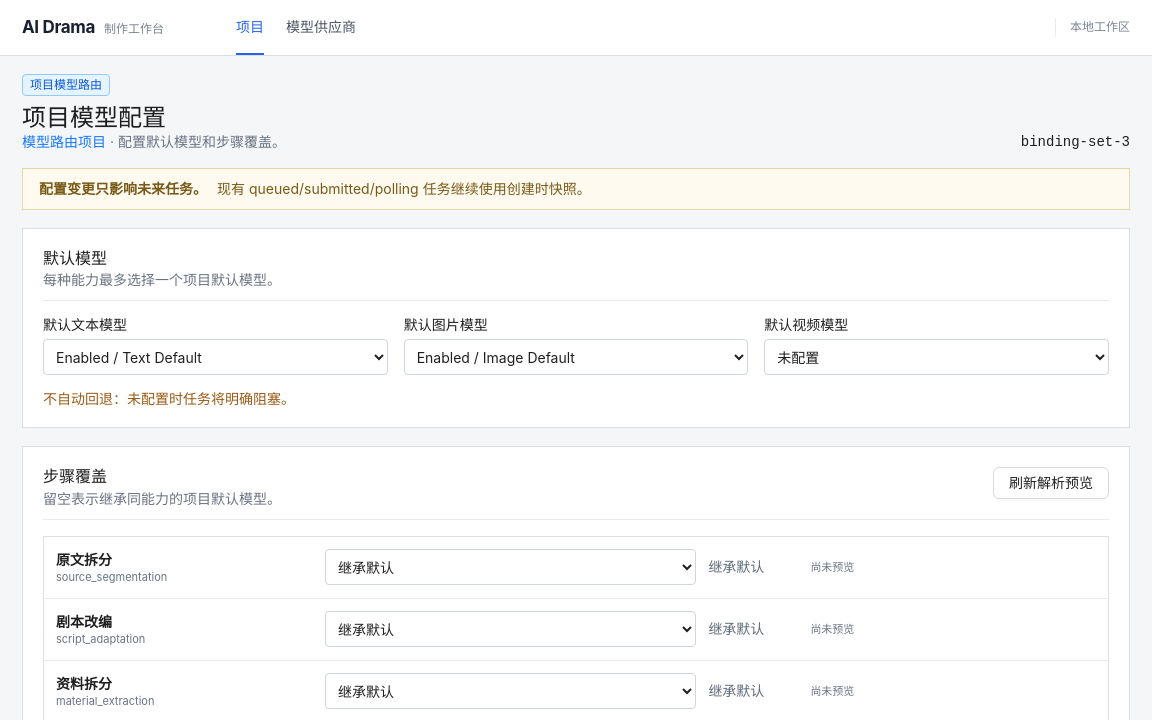
project model bindings › renders backend resolution preview and stable missing-binding errors
Expected: the heading "项目模型配置" is shown, [22, 103, 166, 132]
Step 1. Click the button "刷新解析预览" → (1051, 484), box [993, 468, 1109, 500]
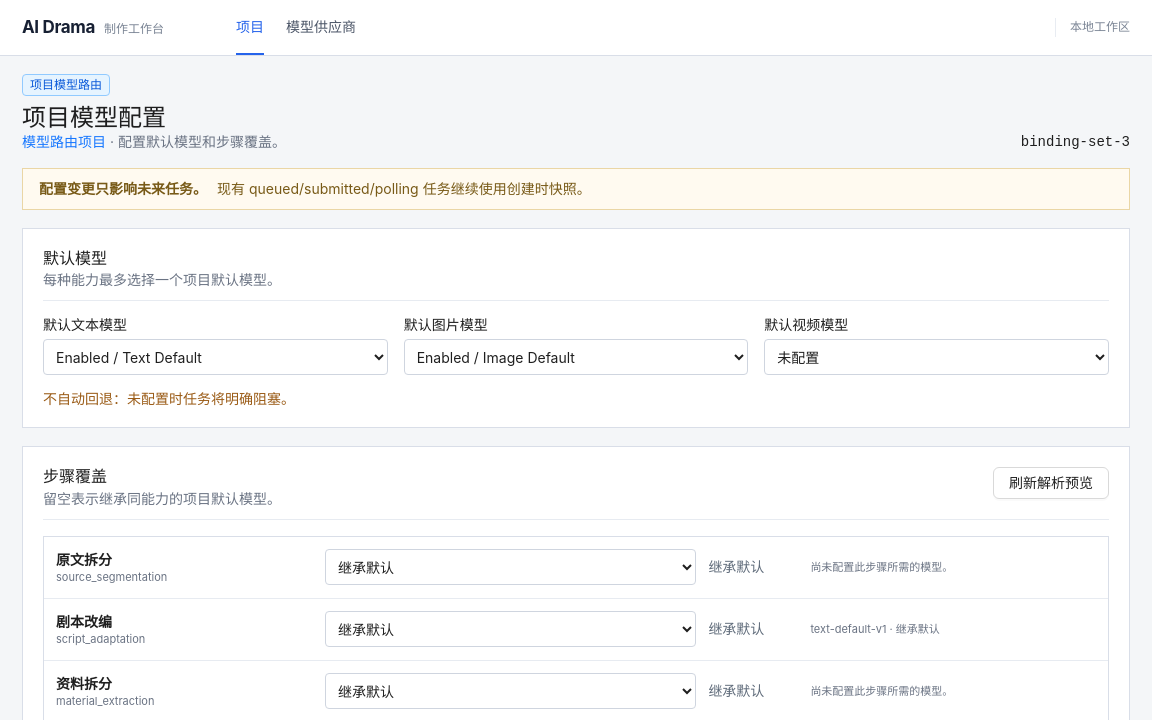
Now the text "text-default-v1 · 继承默认" is shown, box [810, 622, 940, 636]
